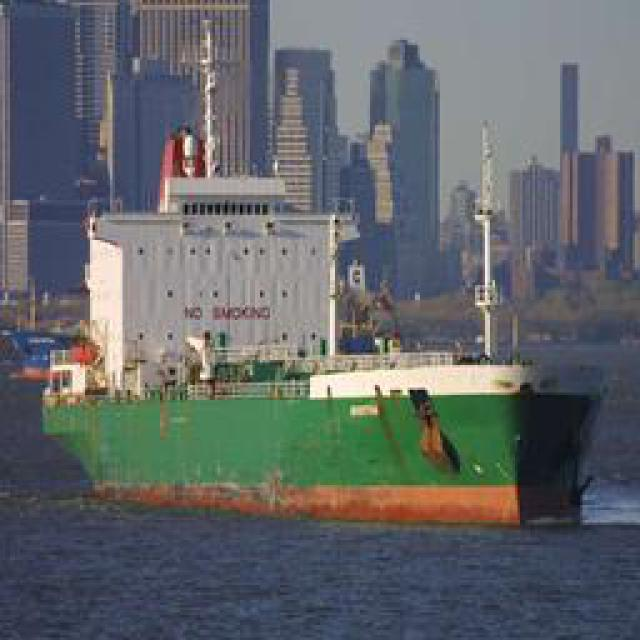Ship: (30, 16, 613, 540)
